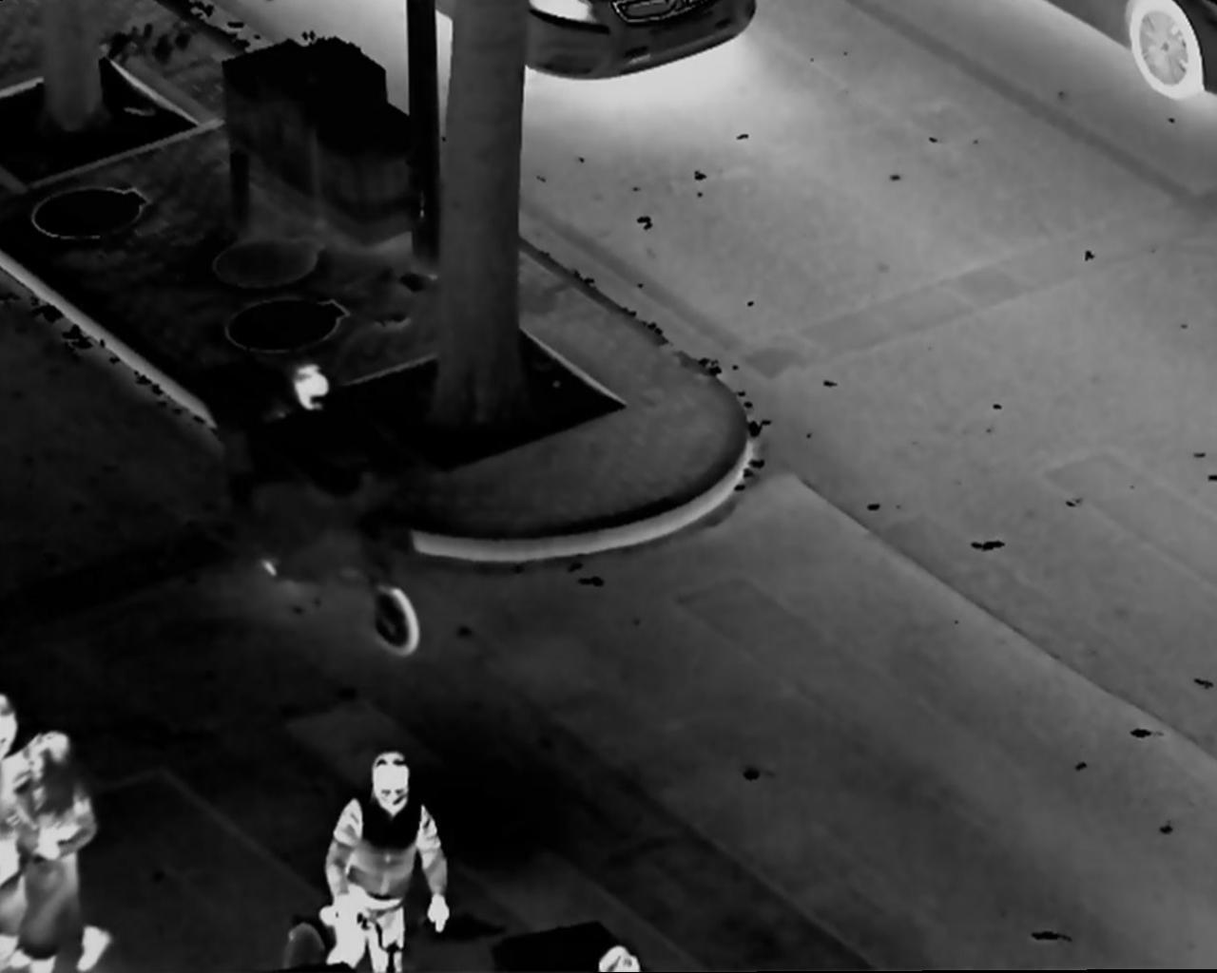person: (315, 743, 454, 972), (13, 728, 114, 973)
